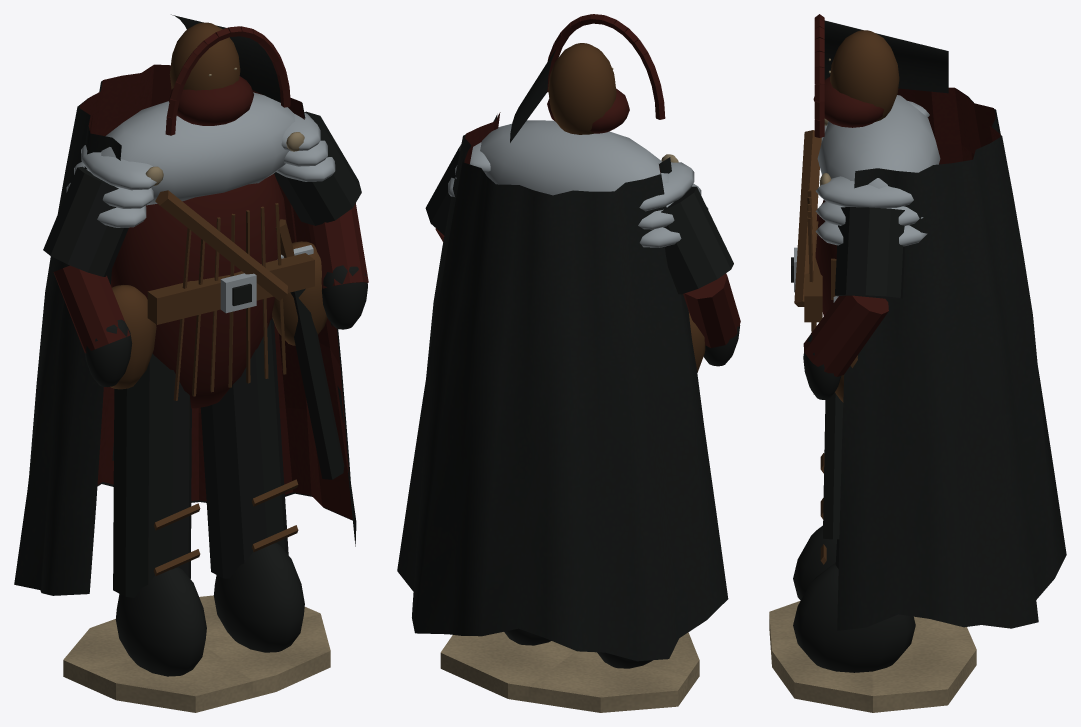
File: Robber.glb
3 renders of one model, left to right at view 1: azimuth 30°, elevation 25°; view 2: azimuth 150°, elevation 25°; view 3: azimuth 270°, elevation 25°, orthographic. The views are drawn at different scales.
Parts seen in each view (by area): view 1: Robber; view 2: Robber; view 3: Robber.
Part boxes in pixels (bbox=[...]): Robber: bbox=[14, 14, 368, 712]; Robber: bbox=[397, 14, 740, 712]; Robber: bbox=[769, 14, 1066, 712].
Size of the model in its own units: 0.1699 by 0.3435 by 0.1453.
Materials: 5 (4 with a texture image).
